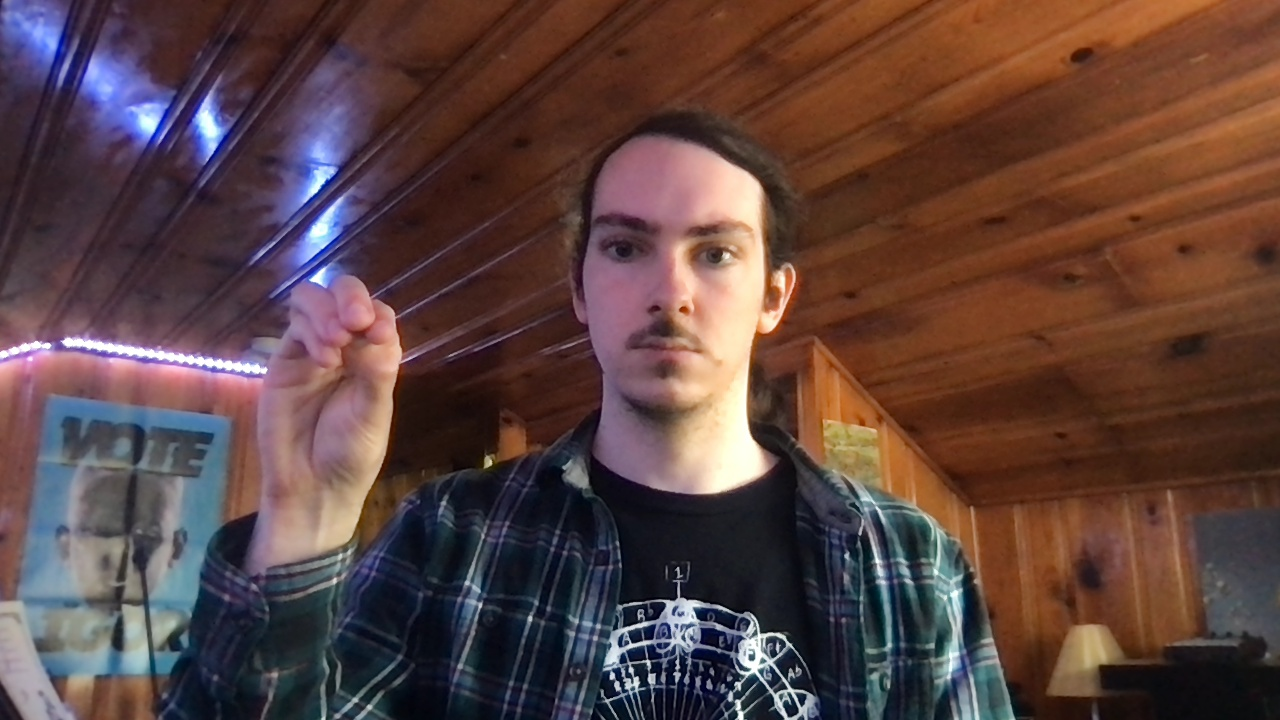m: (250, 274, 405, 506)
